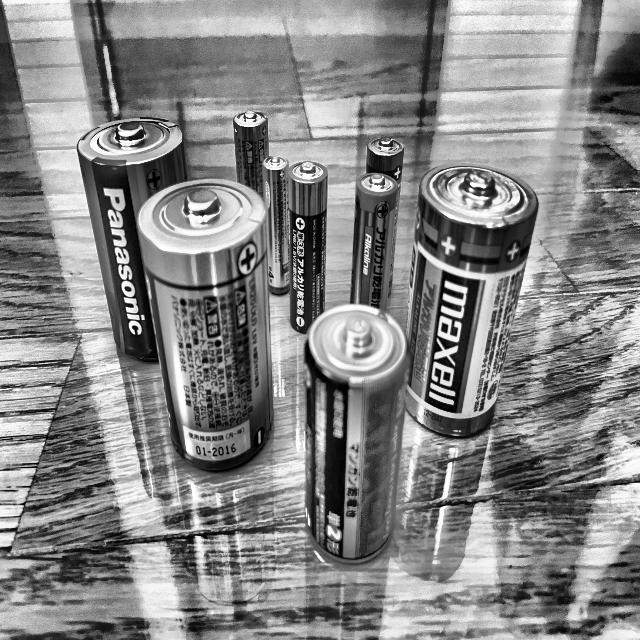drycell: (130, 171, 281, 480), (71, 104, 212, 366)
